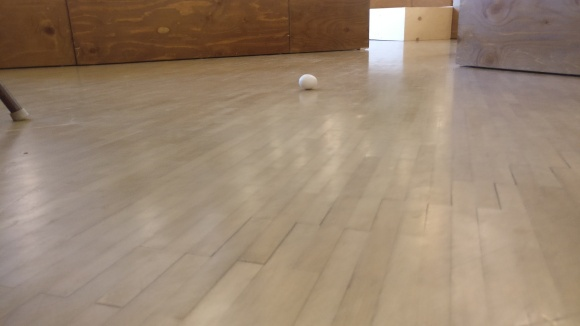egg: (298, 73, 318, 90)
